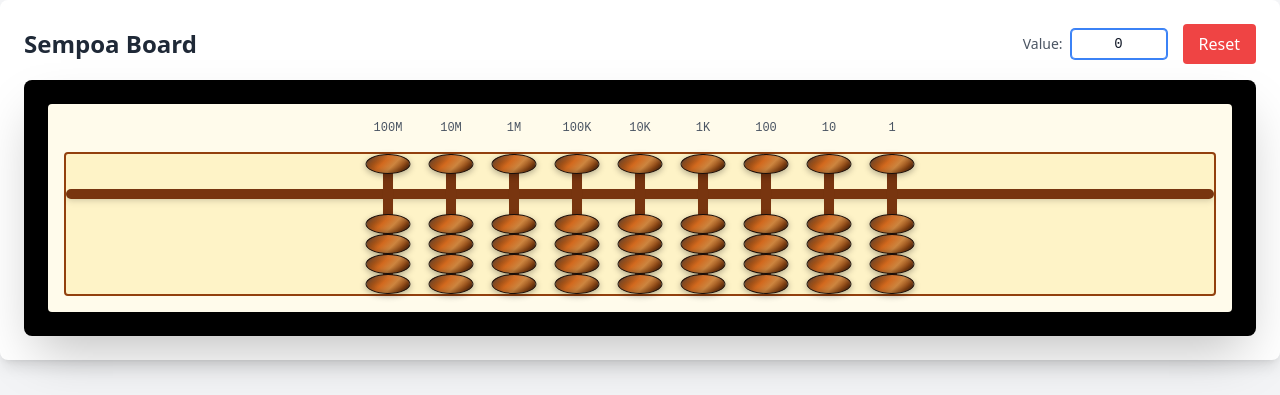
Test: SempoaBoard - Abacus Behavior › Lower Beads Behavior › should move together when deactivating - clicking active bead deactivates all beads below it
What coordinates should you click on to do the following:
click the button "Reset"
I would click on:
 (1219, 44)
Its box is [1182, 24, 1256, 64].
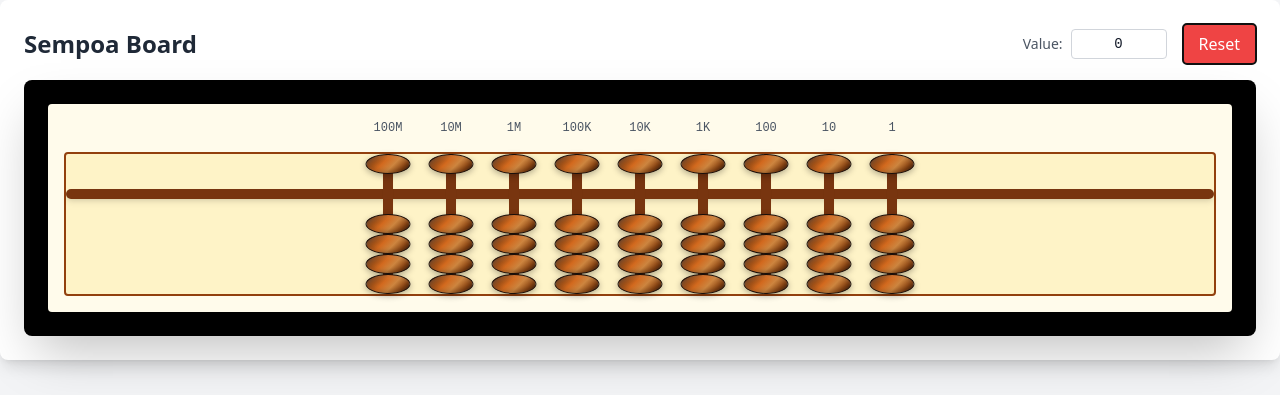
First activate all 4 beads by clicking the 4th bead
What coordinates should you click on to do the following:
click the button named "Bead in column 1, row 4, inactive"
I would click on:
 (388, 284)
Its box is [366, 274, 410, 294].
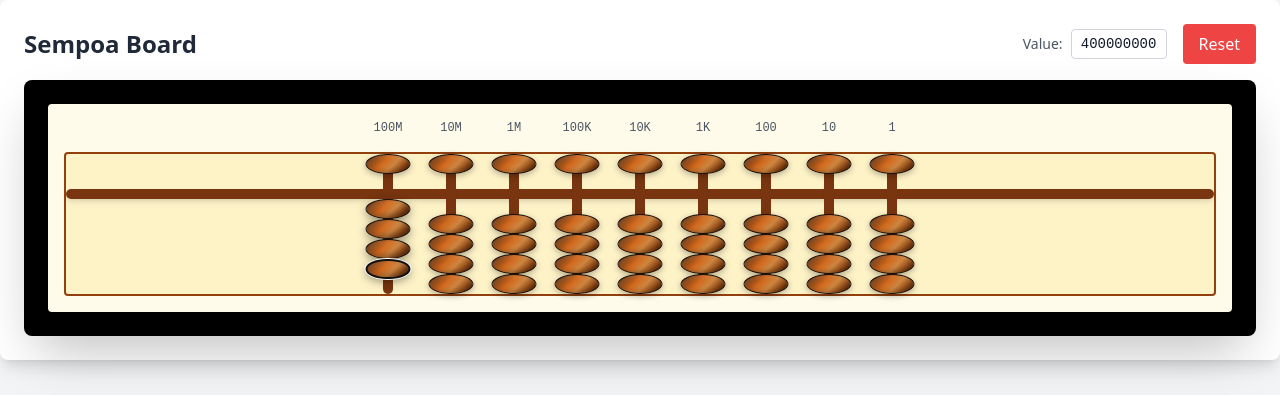
Expected: the field with test id "keyboard-input-field" holds "400000000", [1070, 29, 1166, 59]
Now click on the 2nd bead (index 1) - this should deactivate beads 1, 2, 3
What coordinates should you click on to do the following:
click the button named "Bead in column 1, row 2, active"
I would click on:
 (388, 229)
Its box is [366, 219, 410, 239].
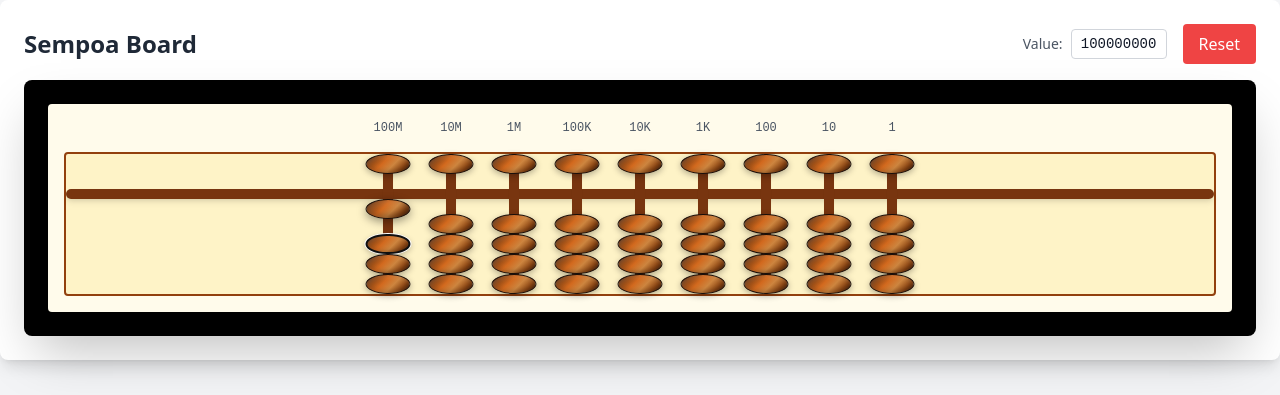
Expected: the field with test id "keyboard-input-field" holds "100000000", [1070, 29, 1166, 59]
